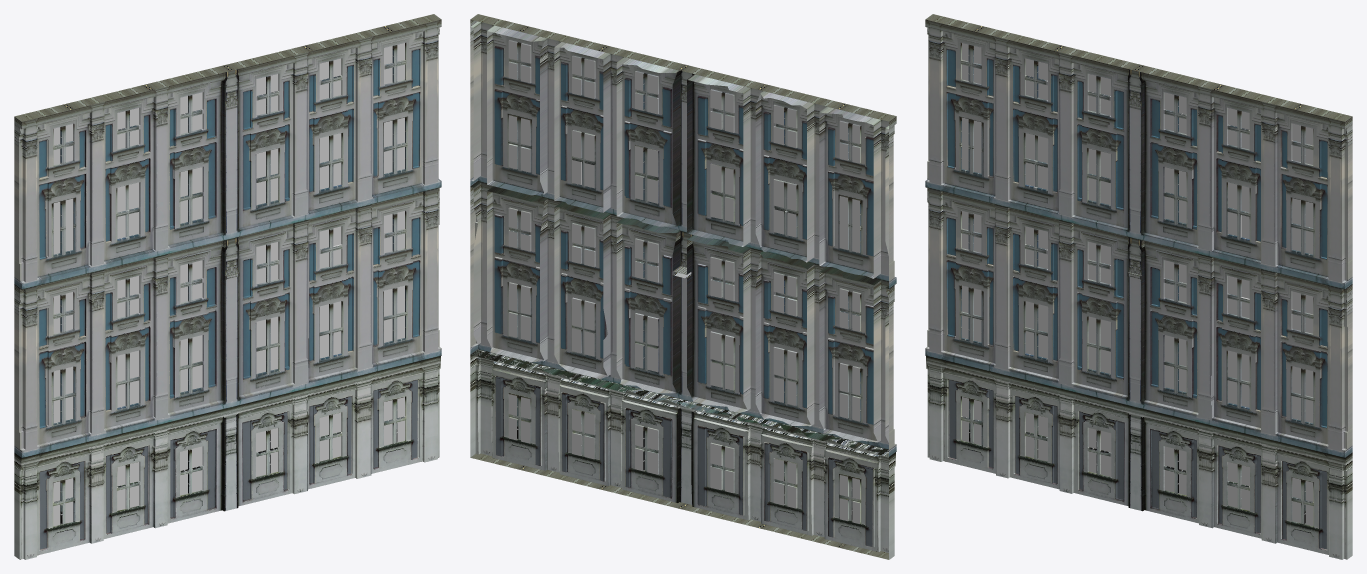
Rendered from buildin1.fbx.
The picture shows the model from 3 angles, left to right: view 1: azimuth 30°, elevation 25°; view 2: azimuth 150°, elevation 25°; view 3: azimuth 330°, elevation 25°; orthographic projection.
Parts seen in each view (by area): view 1: Cube; view 2: Cube; view 3: Cube.
Boxes of the visible parts, x1,y1,x2,y2 form: Cube: [14, 14, 441, 559]; Cube: [470, 14, 896, 559]; Cube: [925, 14, 1352, 559].
Bounding box in the file's own units: 111 × 111 × 3.9.
Materials: 2 (1 with a texture image).
